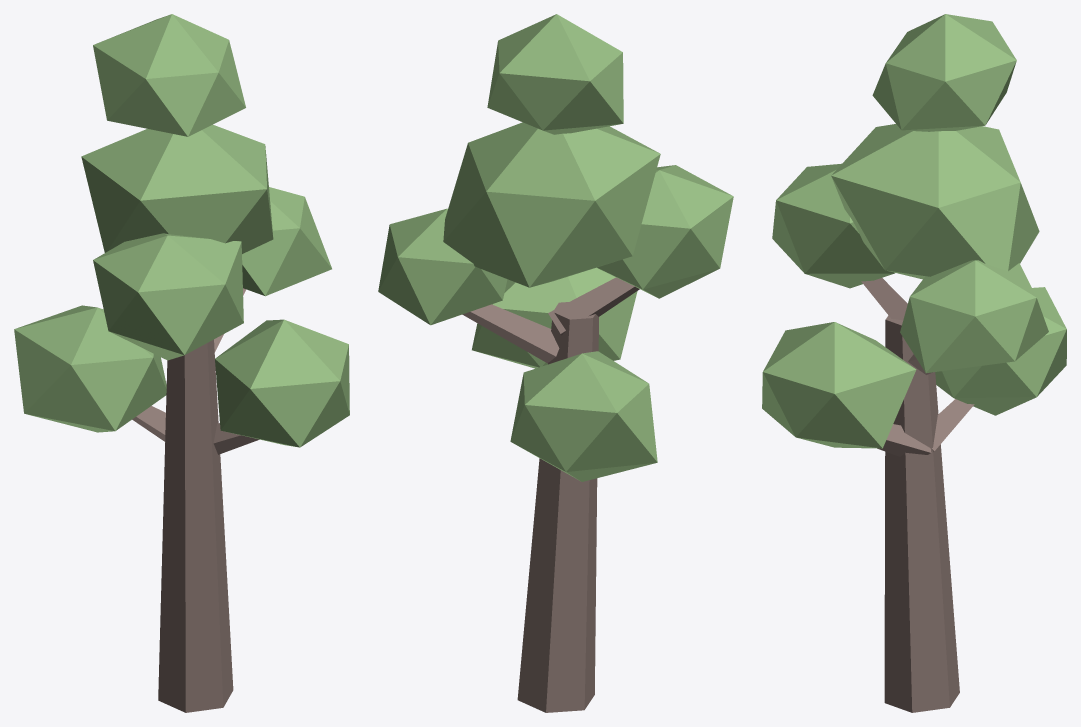
The model's file is arv_carvalho_1_sem_textura.glb.
3 renders of one model, left to right at view 1: azimuth 30°, elevation 25°; view 2: azimuth 150°, elevation 25°; view 3: azimuth 270°, elevation 25°, orthographic. The views are drawn at different scales.
Visible parts, largest first — view 1: arv_carvalho_1; view 2: arv_carvalho_1; view 3: arv_carvalho_1.
Boxes of the visible parts, x1,y1,x2,y2 form: arv_carvalho_1: (14,14,349,712); arv_carvalho_1: (378,14,733,712); arv_carvalho_1: (762,14,1066,712).
Bounding box in the file's own units: 0.8108 × 1.92 × 0.7799.
